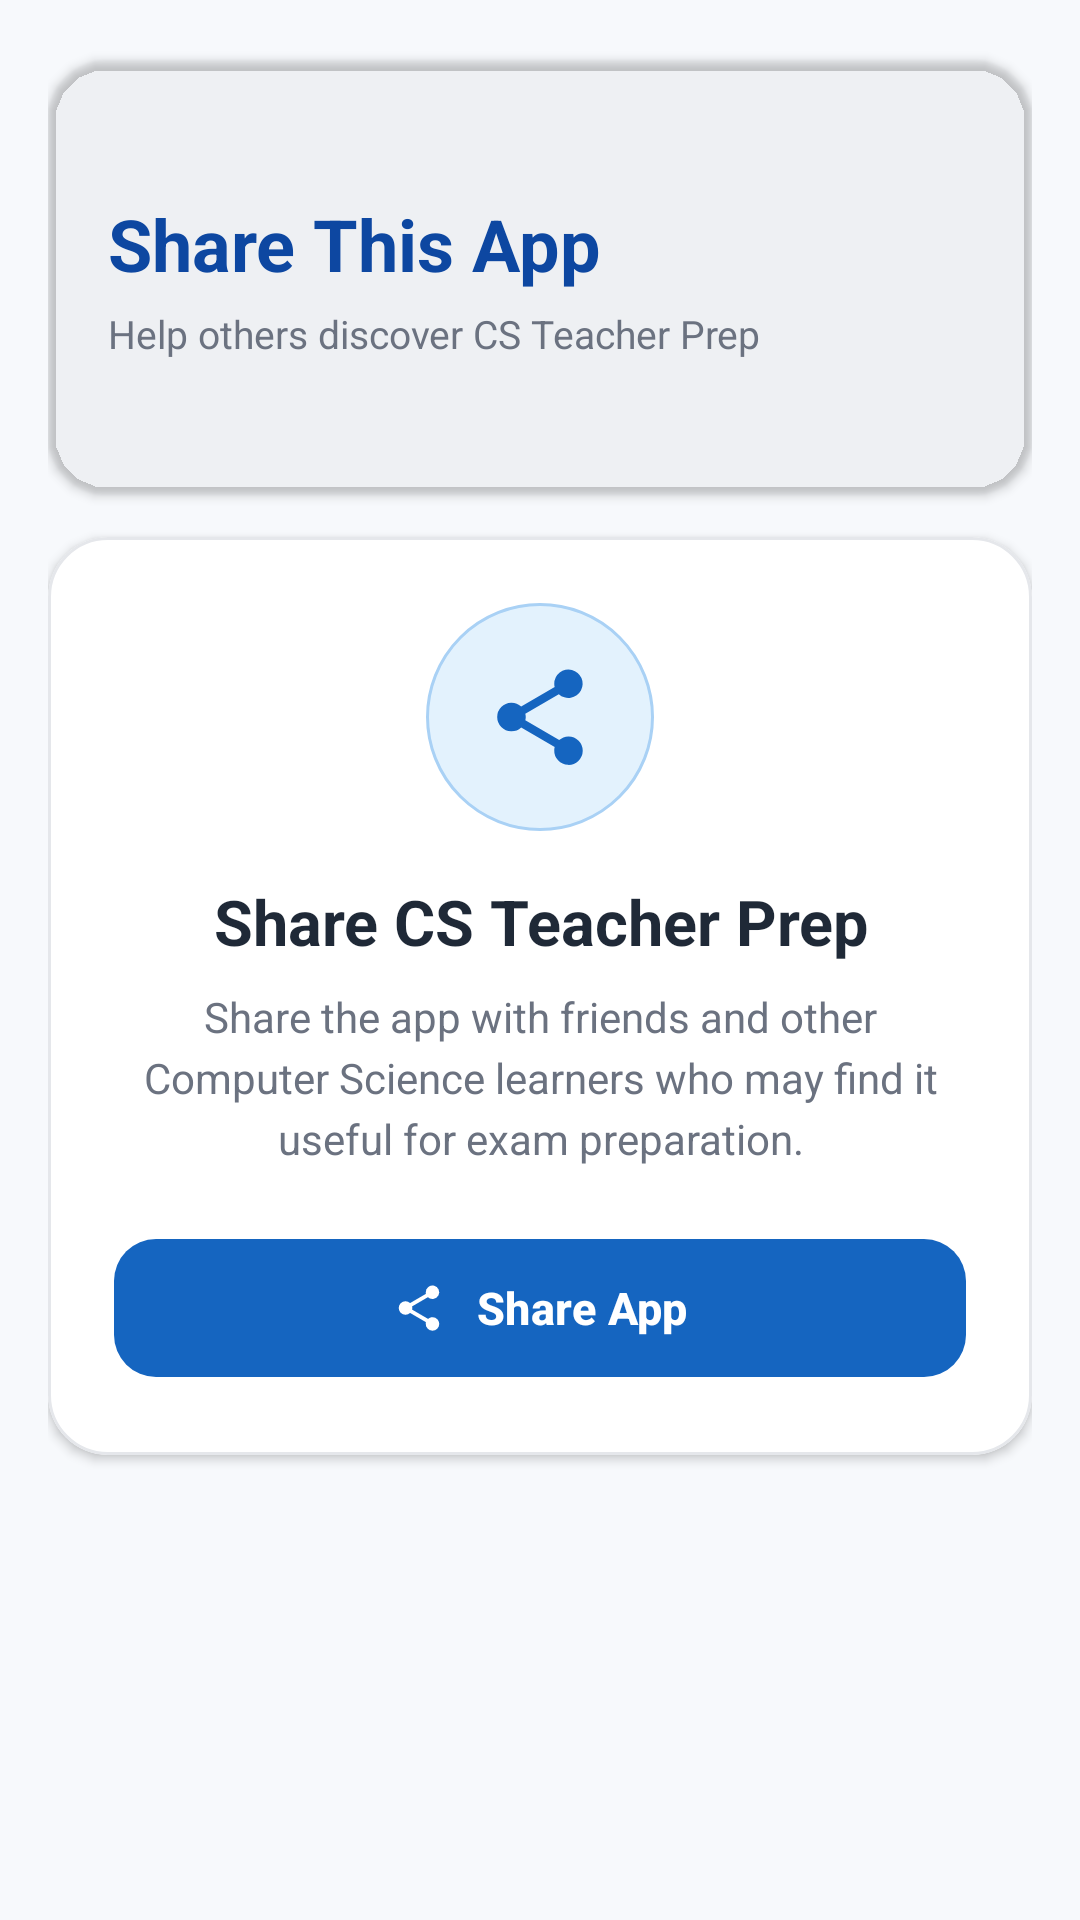

Screen size 1080px×1920px. Icon name, then its center in pixels as (x,y):
share app: (540,717)
